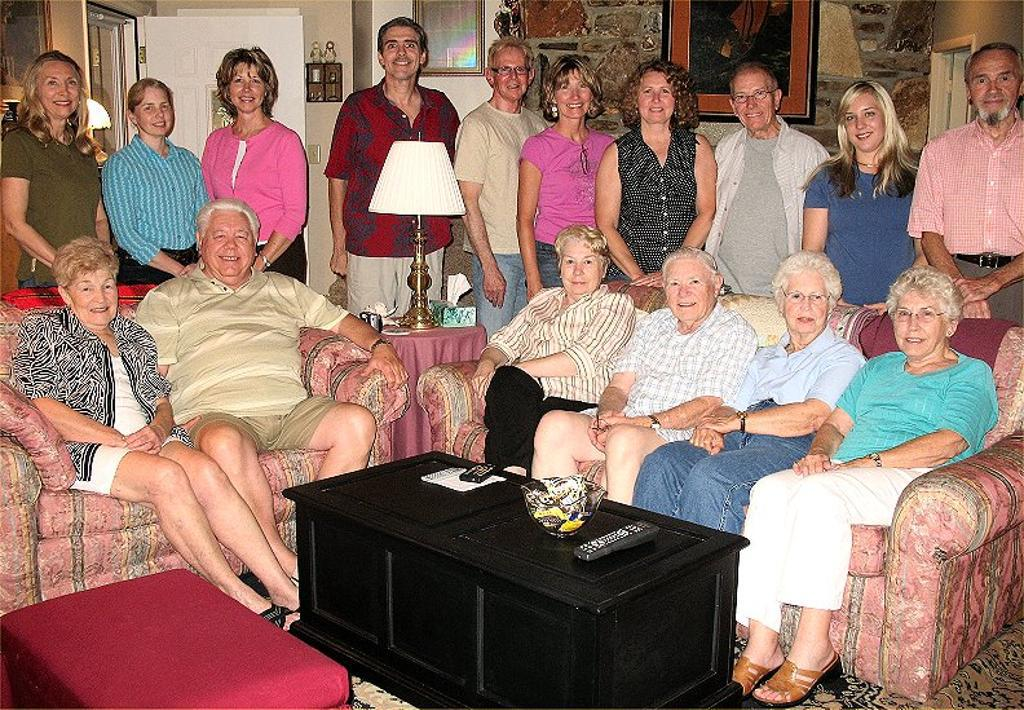face: (204, 214, 256, 276), (895, 294, 946, 354), (972, 61, 1019, 117), (668, 261, 710, 319), (785, 275, 828, 331), (73, 272, 117, 323), (39, 67, 80, 116), (733, 83, 776, 129), (846, 102, 886, 150), (563, 248, 602, 293), (493, 53, 530, 99), (385, 31, 421, 78), (638, 78, 676, 122), (230, 67, 266, 111), (136, 94, 173, 135), (556, 77, 593, 116)
